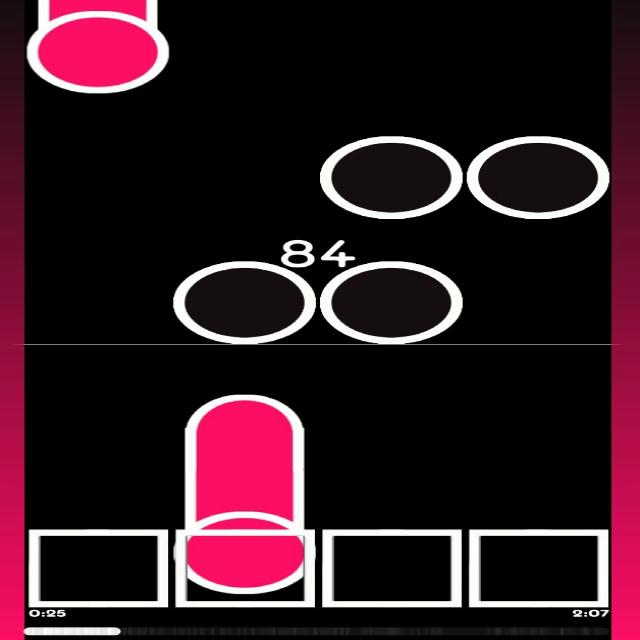end_hold: (188, 388, 302, 438)
note: (465, 133, 611, 219), (322, 132, 462, 218), (322, 260, 461, 344), (176, 260, 316, 342)
start_hold: (170, 497, 314, 594), (28, 2, 168, 93)
